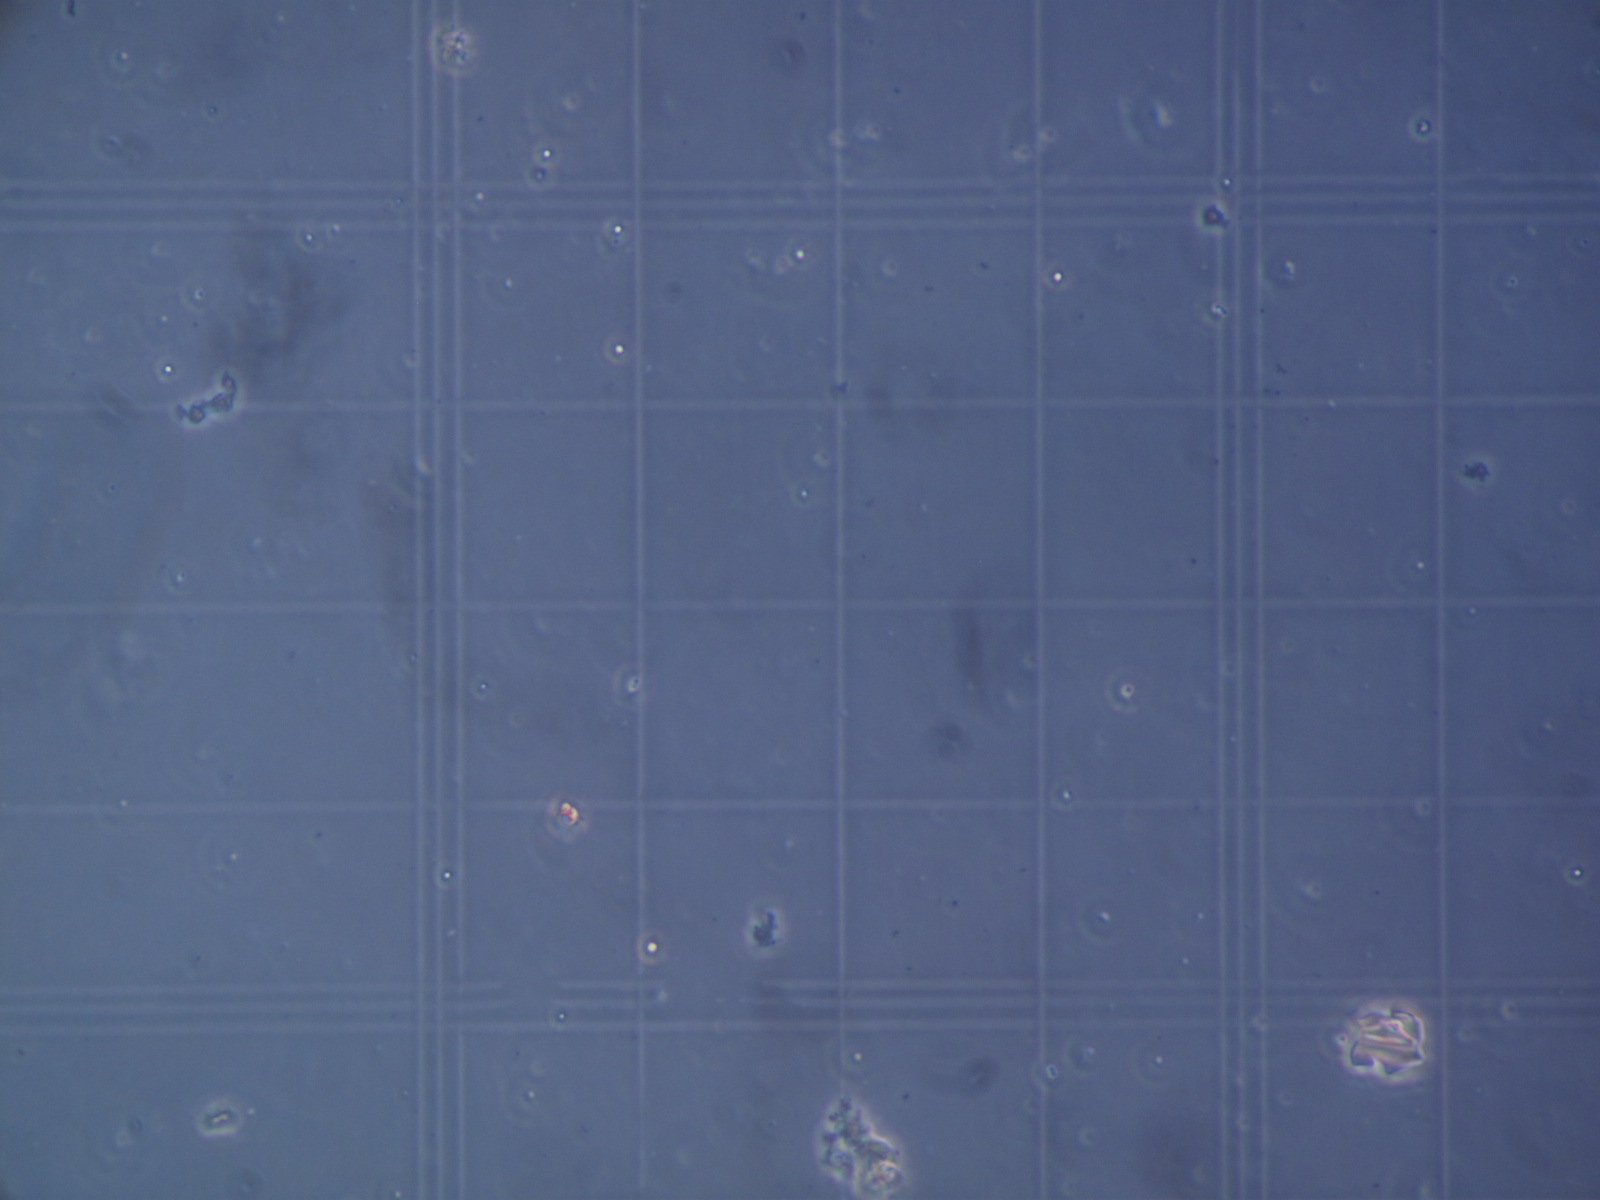Virus: (626, 676, 643, 693), (1120, 684, 1136, 698), (1095, 913, 1111, 923), (614, 344, 625, 355), (648, 942, 659, 953), (799, 489, 810, 499), (795, 250, 806, 260), (504, 279, 514, 289), (614, 224, 624, 234), (1053, 272, 1063, 282), (480, 684, 489, 693), (1063, 792, 1072, 800), (443, 872, 452, 880), (1196, 913, 1204, 920), (1182, 958, 1189, 966)
